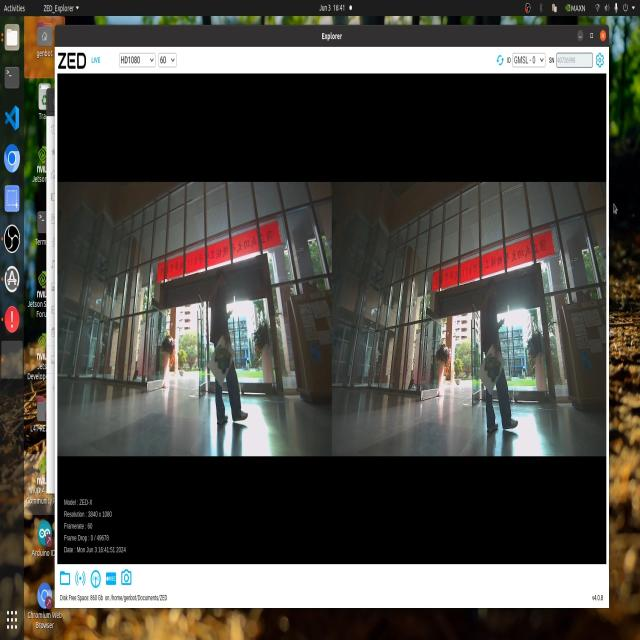green: (475, 354, 496, 390), (208, 340, 228, 369)
